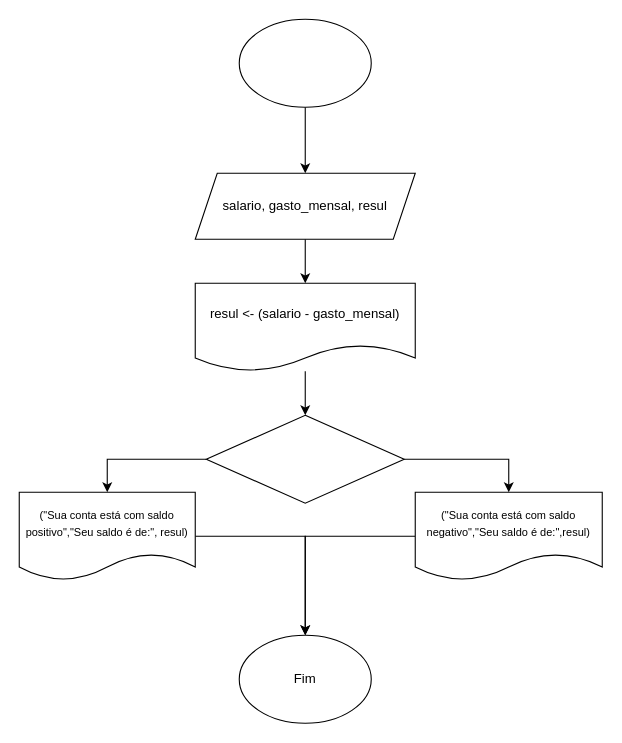
Some shapes in this 622 by 743 pixel diagram are drawn without their labels. Here are the shapes that lost their labels. From the top down, the centre of each, then its label:
At point (304, 62): "Início".
At point (304, 458): "(salario>gasto_mensal)".
